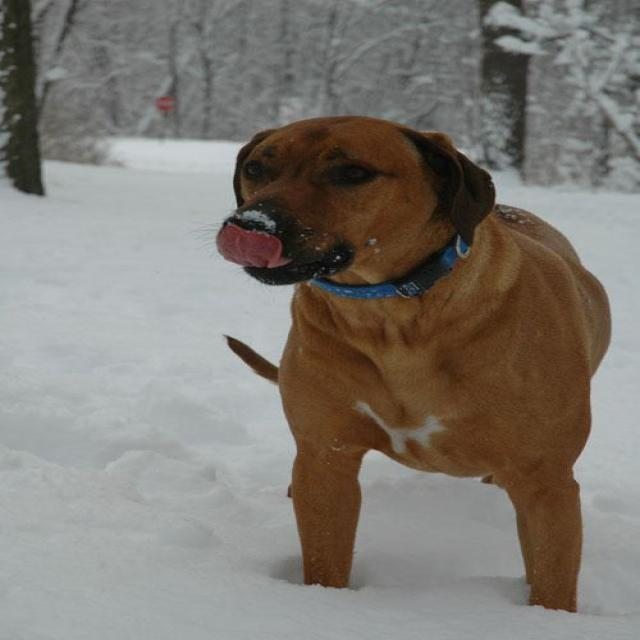rhodesian_ridgeback: (212, 109, 618, 617)
